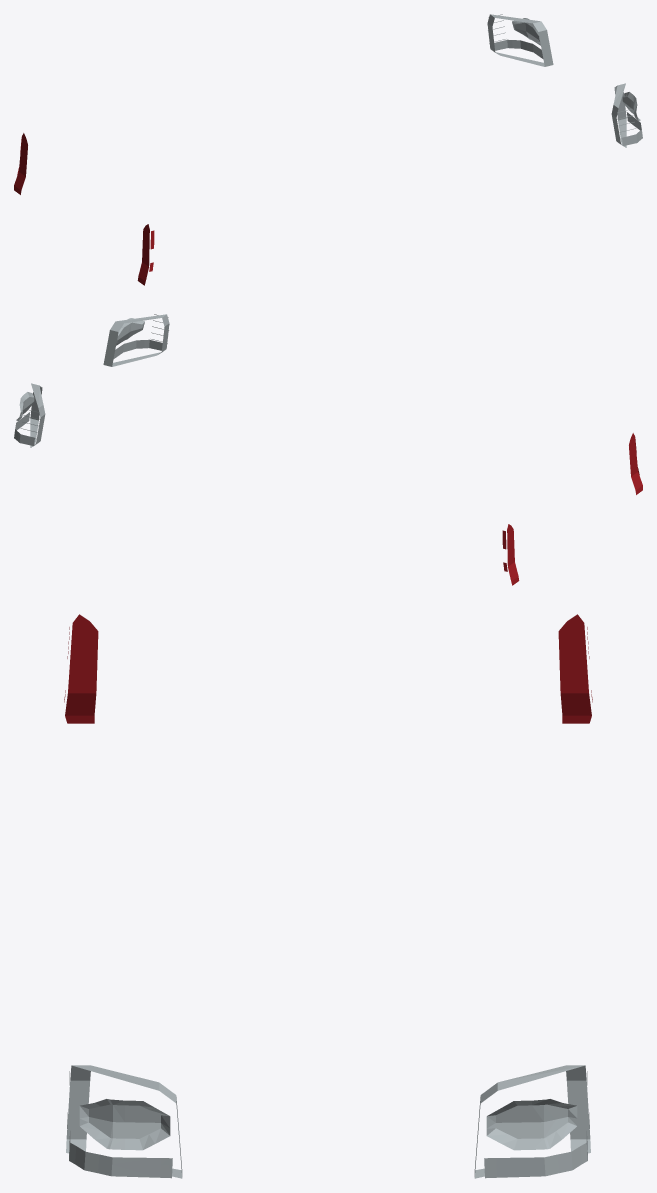
Rendered from kei-every-photo-custom-1487ff21-lamps.glb.
The picture shows the model from 3 angles, top to bottom: view 1: azimuth 30°, elevation 25°; view 2: azimuth 150°, elevation 25°; view 3: azimuth 270°, elevation 25°; orthographic projection. The views are drawn at different scales.
Visible parts, largest first — view 1: Right_Tail_Lens, Left_Tail_Lens, Left_Indicator_Reflector; view 2: Left_Tail_Lens, Right_Tail_Lens, Right_Indicator_Reflector; view 3: Left_Reflector_0, Right_Reflector_0, Left_Tail_Lens, Right_Tail_Lens, Left_Indicator_Reflector, Right_Indicator_Reflector, Left_Lamp_Return_2, Right_Lamp_Return_3.
Boxes of the visible parts, bbox=[...] form: Right_Tail_Lens: bbox=[137, 224, 149, 285]; Left_Tail_Lens: bbox=[14, 133, 27, 194]; Left_Indicator_Reflector: bbox=[494, 39, 543, 58]; Left_Tail_Lens: bbox=[507, 524, 519, 585]; Right_Tail_Lens: bbox=[629, 433, 642, 494]; Right_Indicator_Reflector: bbox=[113, 339, 162, 358]; Left_Reflector_0: bbox=[486, 1099, 577, 1150]; Right_Reflector_0: bbox=[79, 1099, 170, 1150]; Left_Tail_Lens: bbox=[558, 614, 591, 723]; Right_Tail_Lens: bbox=[65, 614, 98, 723]; Left_Indicator_Reflector: bbox=[484, 1131, 587, 1178]; Right_Indicator_Reflector: bbox=[69, 1131, 172, 1178]; Left_Lamp_Return_2: bbox=[567, 1080, 590, 1139]; Right_Lamp_Return_3: bbox=[66, 1080, 89, 1139].
Bounding box in the file's own units: 3.25 × 0.3808 × 1.46.
